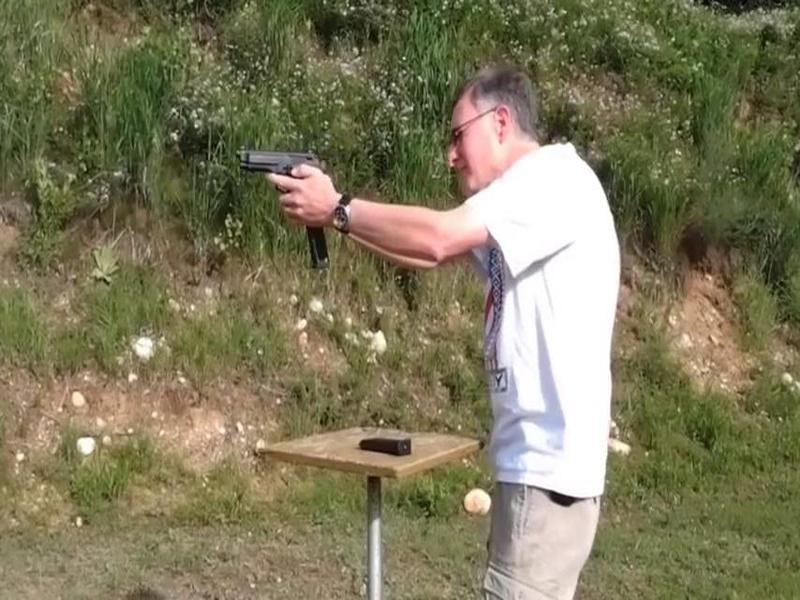Pistola: (234, 129, 346, 225)
